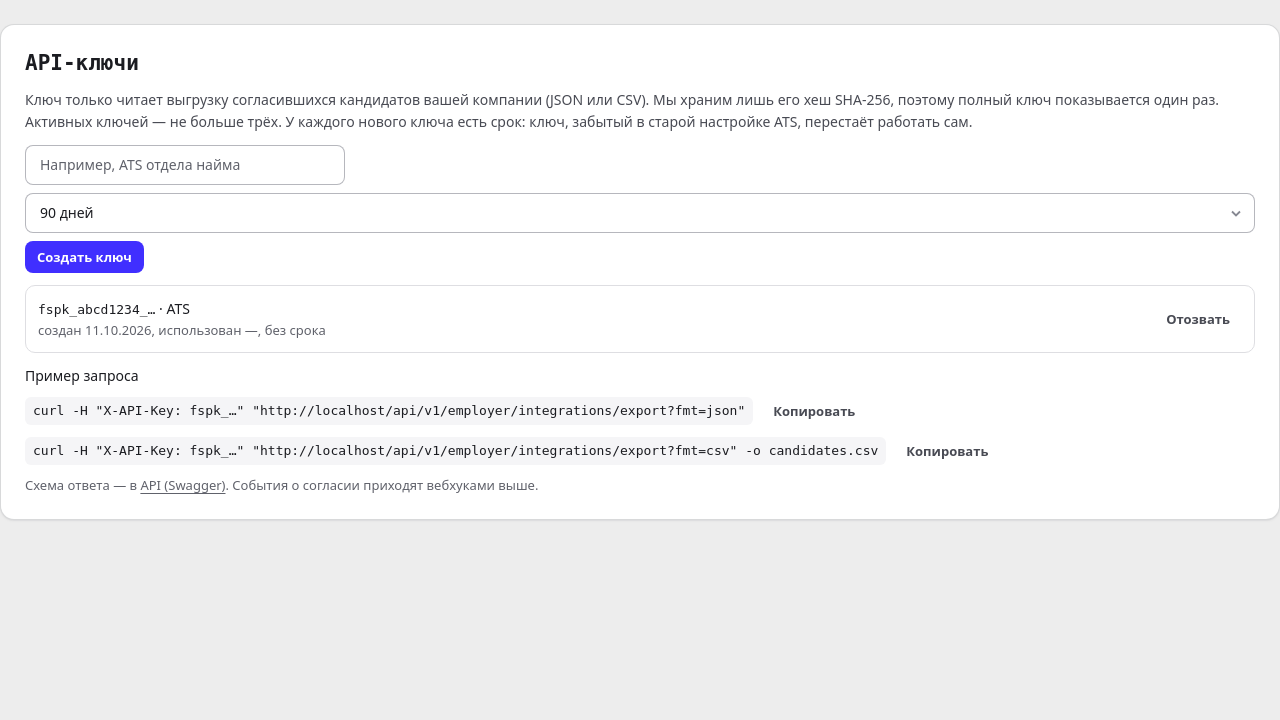
Test: API-ключи › показывает новый ключ один раз и список по префиксу
Expected: the text "fspk_abcd1234_…" is shown, [38, 302, 155, 317]
Step 1. Click the button "Создать ключ" → (84, 257), box [25, 241, 144, 273]
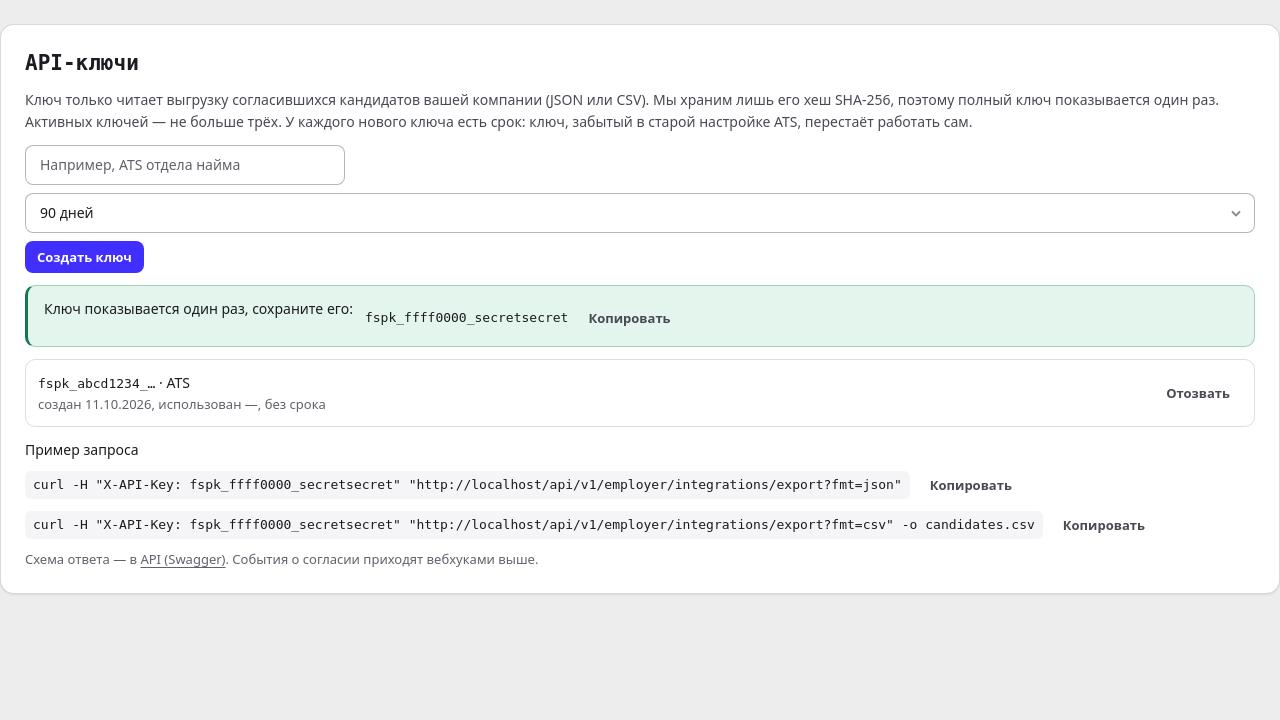
Result: the message with test id "api-key-once" shows "fspk_ffff0000_secretsecret" at [365, 310, 568, 325]
Result: the text with test id "example-json" shows "X-API-Key: fspk_ffff0000_secretsecret" at [33, 477, 902, 492]
